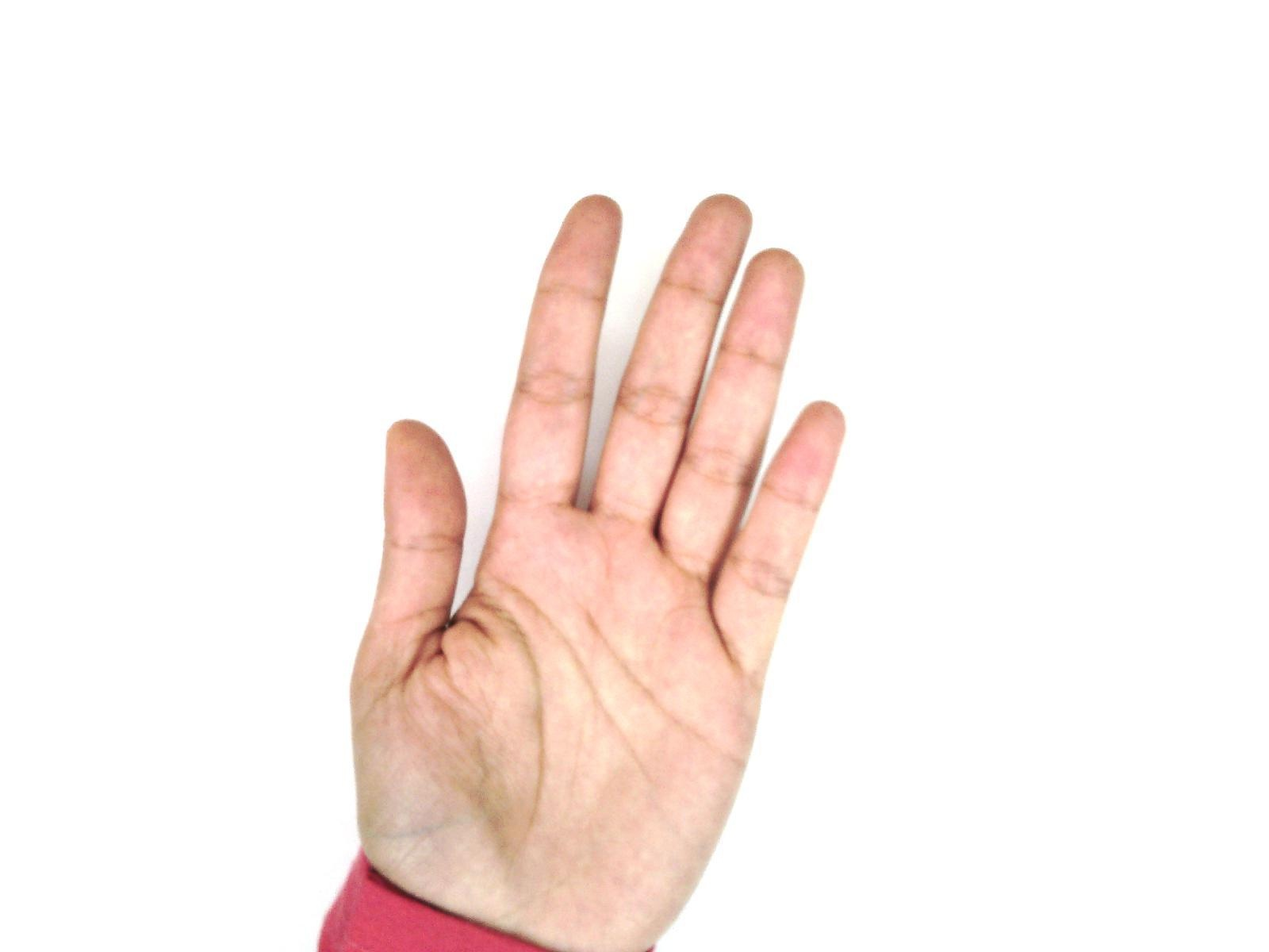open_palm: (344, 190, 849, 950)
